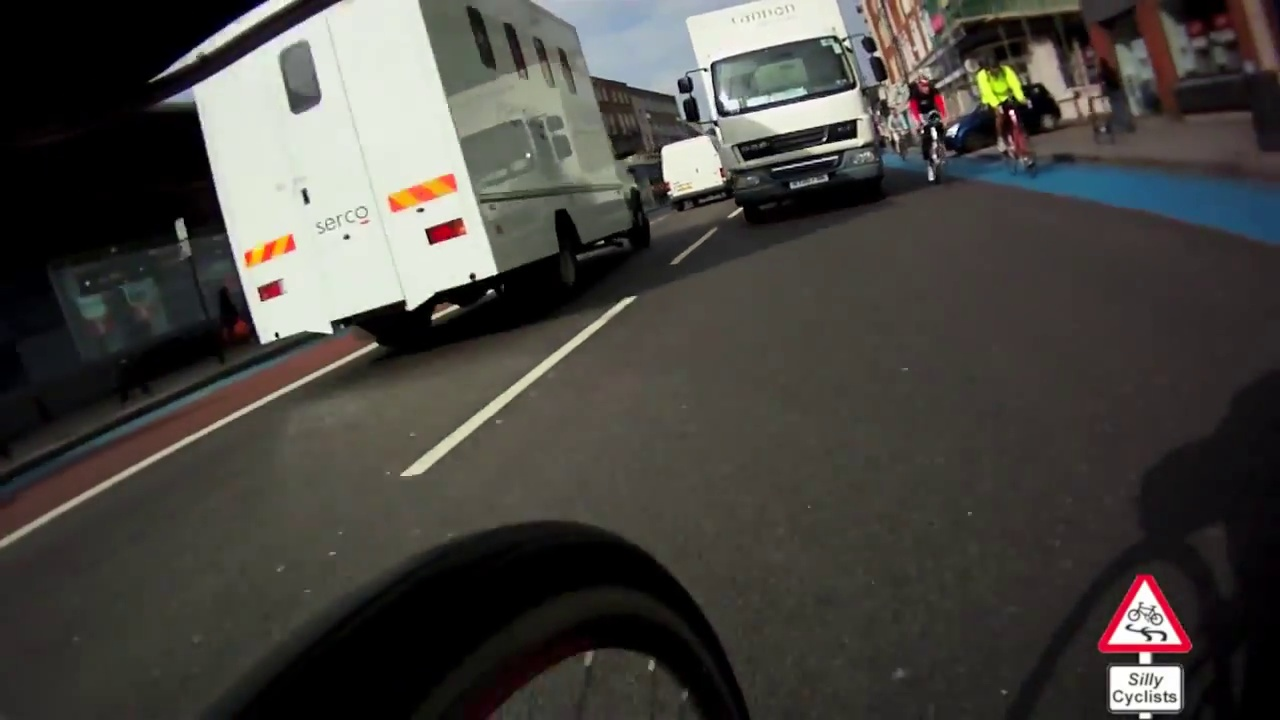cyclist_front: (976, 55, 1046, 185), (908, 69, 955, 193), (885, 106, 914, 160)
